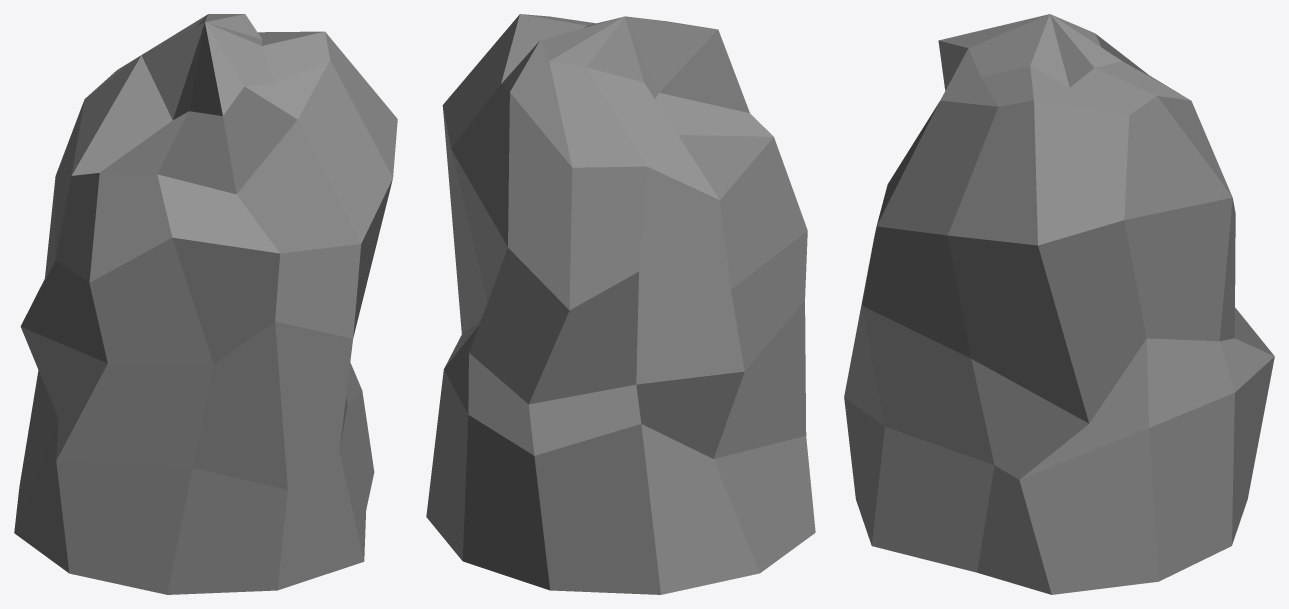
The model's file is Stalagmite 3.fbx.
The picture shows the model from 3 angles, left to right: view 1: azimuth 30°, elevation 25°; view 2: azimuth 150°, elevation 25°; view 3: azimuth 270°, elevation 25°; orthographic projection.
Parts seen in each view (by area): view 1: Stalagmite_3; view 2: Stalagmite_3; view 3: Stalagmite_3.
Boxes of the visible parts, x1,y1,x2,y2 form: Stalagmite_3: (14, 14, 397, 594); Stalagmite_3: (426, 14, 815, 594); Stalagmite_3: (844, 14, 1274, 594).
Size of the model in its own units: 177 by 237 by 187.
1 material, 1 textured.
